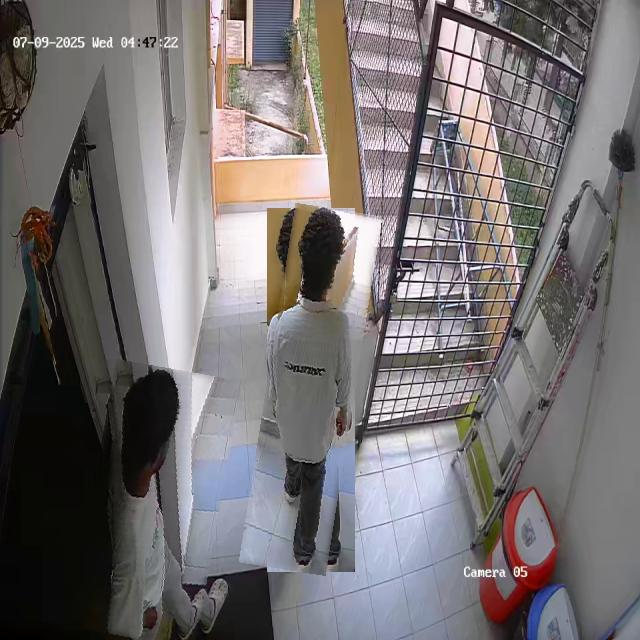person: (253, 206, 369, 574), (80, 363, 231, 640)
